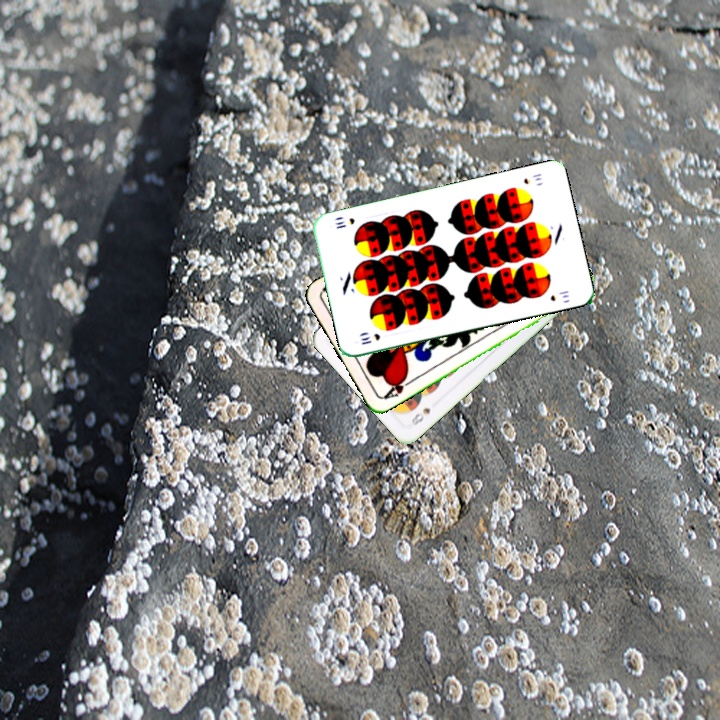HA: (379, 371, 416, 402)
S10: (357, 329, 383, 347), (520, 169, 545, 187)
S8: (407, 404, 433, 429)
